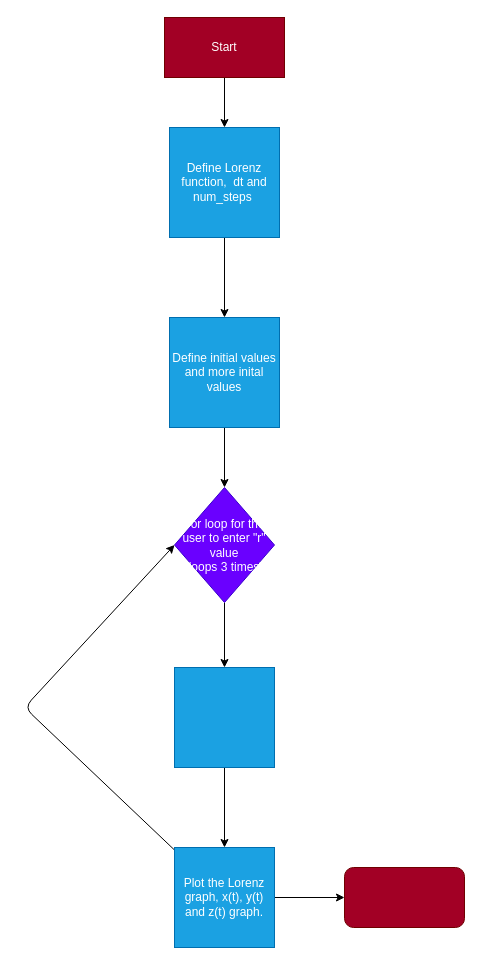
This 482x965 diagram has some shape labels left out. The centre of each missing label's shape, as x and y in pixels:
"calculating the partial derivatives at the current point" belongs at (224,717).
"End" belongs at (404,897).
